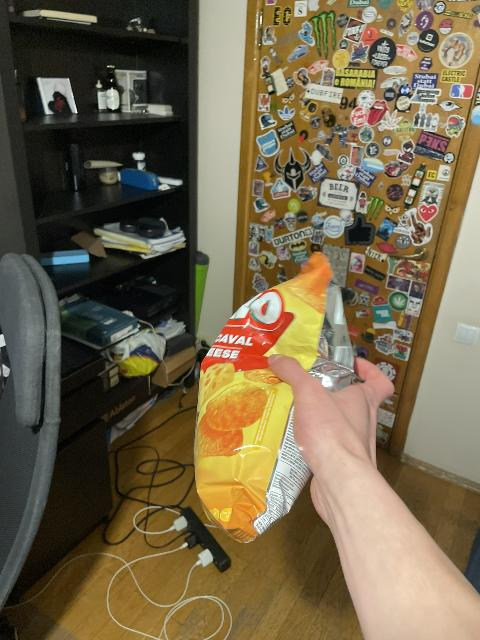Chio Cascaval 125g: (193, 251, 353, 543)
